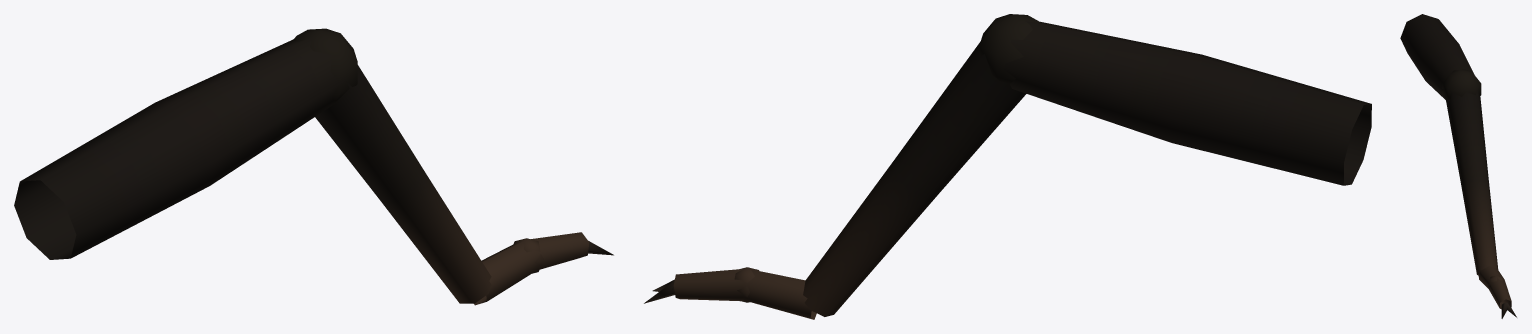
The model's file is Herakuresu_Leg1.fbx.
3 renders of one model, left to right at view 1: azimuth 30°, elevation 25°; view 2: azimuth 150°, elevation 25°; view 3: azimuth 270°, elevation 25°, orthographic. The views are drawn at different scales.
Parts seen in each view (by area): view 1: Herakuresu_Leg1; view 2: Herakuresu_Leg1; view 3: Herakuresu_Leg1.
Part boxes in pixels (x1,y1,x2,y2): Herakuresu_Leg1: (14,28,613,305); Herakuresu_Leg1: (644,14,1371,319); Herakuresu_Leg1: (1400,14,1516,318).
Bounding box in the file's own units: 1.47 × 0.7203 × 0.4537.
